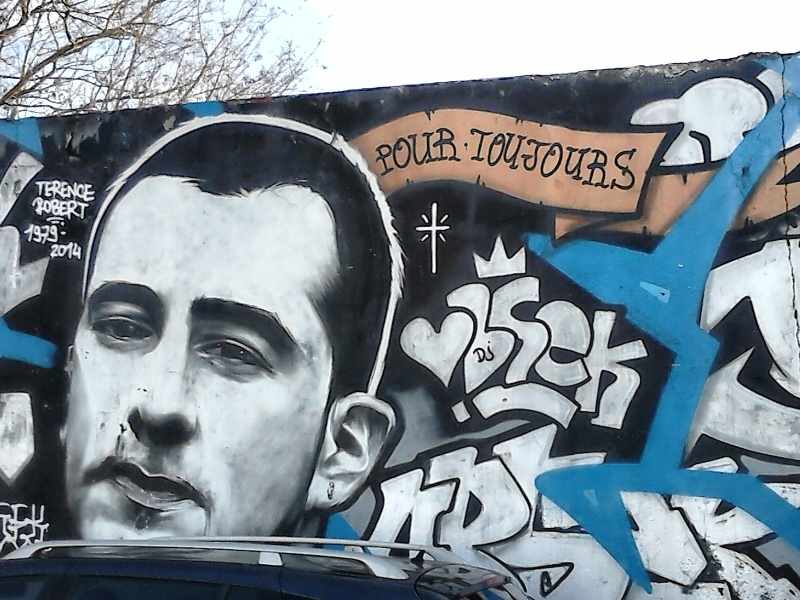text: (369, 401, 384, 599), (385, 401, 400, 599), (401, 401, 416, 599), (417, 401, 432, 599), (433, 401, 448, 599), (449, 401, 464, 599), (465, 401, 480, 599), (481, 401, 496, 599), (497, 401, 512, 599), (513, 401, 528, 599), (529, 401, 544, 599), (545, 401, 560, 599), (561, 401, 576, 599), (577, 401, 592, 599), (593, 401, 608, 599), (609, 401, 624, 599), (625, 401, 640, 599), (449, 261, 464, 440), (465, 261, 480, 440), (481, 261, 496, 440), (497, 261, 512, 440), (513, 261, 528, 440), (529, 261, 544, 440), (545, 261, 560, 440), (561, 261, 576, 440), (577, 261, 592, 440), (593, 261, 608, 440), (609, 261, 624, 440), (625, 261, 640, 440), (641, 261, 656, 440), (657, 261, 672, 440), (438, 261, 448, 440), (360, 401, 368, 599), (481, 127, 496, 196), (497, 127, 512, 196), (513, 127, 528, 196), (529, 127, 544, 196), (545, 127, 560, 196), (561, 127, 576, 196), (577, 127, 592, 196), (593, 127, 608, 196), (609, 127, 624, 196), (625, 127, 640, 196), (385, 123, 400, 179), (401, 123, 416, 179), (417, 123, 432, 179), (433, 123, 448, 179), (17, 498, 32, 554), (33, 498, 48, 554), (641, 401, 645, 599), (449, 123, 463, 179), (2, 498, 16, 554), (471, 127, 480, 196), (374, 123, 384, 179), (481, 338, 496, 368), (49, 178, 64, 206), (65, 178, 80, 206), (81, 178, 96, 206), (33, 196, 48, 224), (49, 196, 64, 224), (65, 196, 80, 224), (34, 178, 48, 206), (33, 222, 48, 246), (49, 222, 64, 246), (469, 338, 480, 368), (65, 242, 80, 262), (81, 196, 91, 224), (50, 242, 64, 262), (673, 261, 674, 440), (25, 222, 32, 246), (497, 338, 502, 368), (49, 498, 51, 554), (65, 222, 68, 246), (97, 178, 99, 206), (81, 242, 83, 262)
